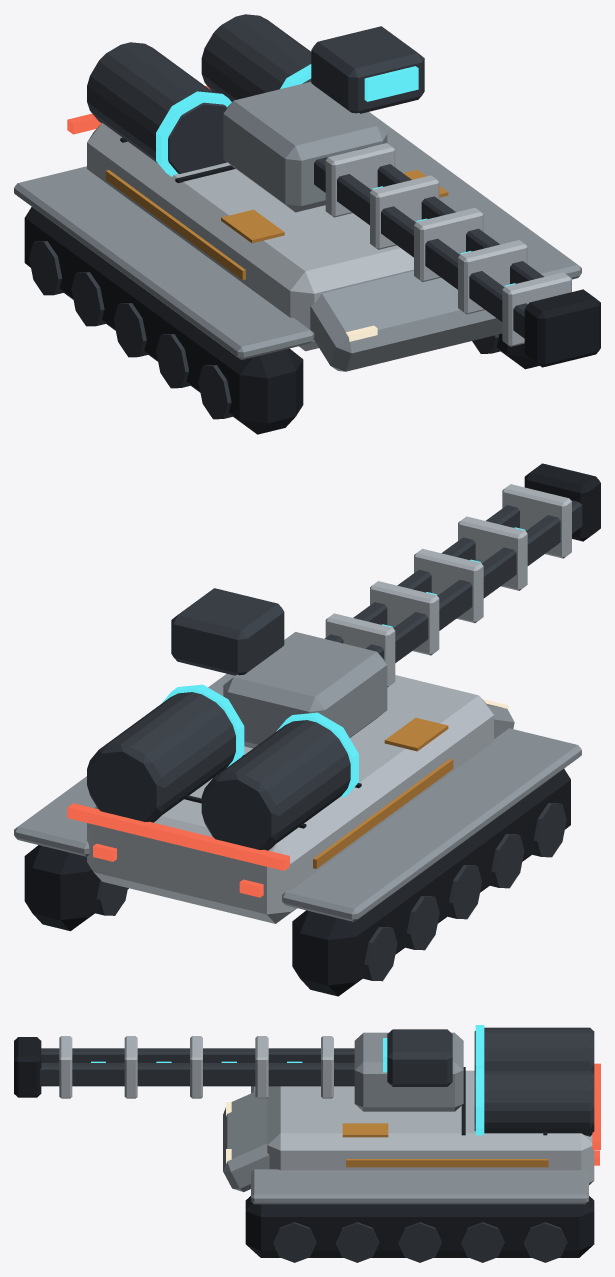
The model's file is exo-lancer.glb.
The picture shows the model from 3 angles, top to bottom: view 1: azimuth 30°, elevation 25°; view 2: azimuth 150°, elevation 25°; view 3: azimuth 270°, elevation 25°; orthographic projection. The views are drawn at different scales.
Visible parts, largest first — view 1: body; view 2: body; view 3: body.
Boxes of the visible parts, x1,y1,x2,y2 form: body: [14, 14, 600, 434]; body: [14, 463, 600, 996]; body: [14, 1025, 600, 1262].
Size of the model in its own units: 2.7 by 1.92 by 5.38.
